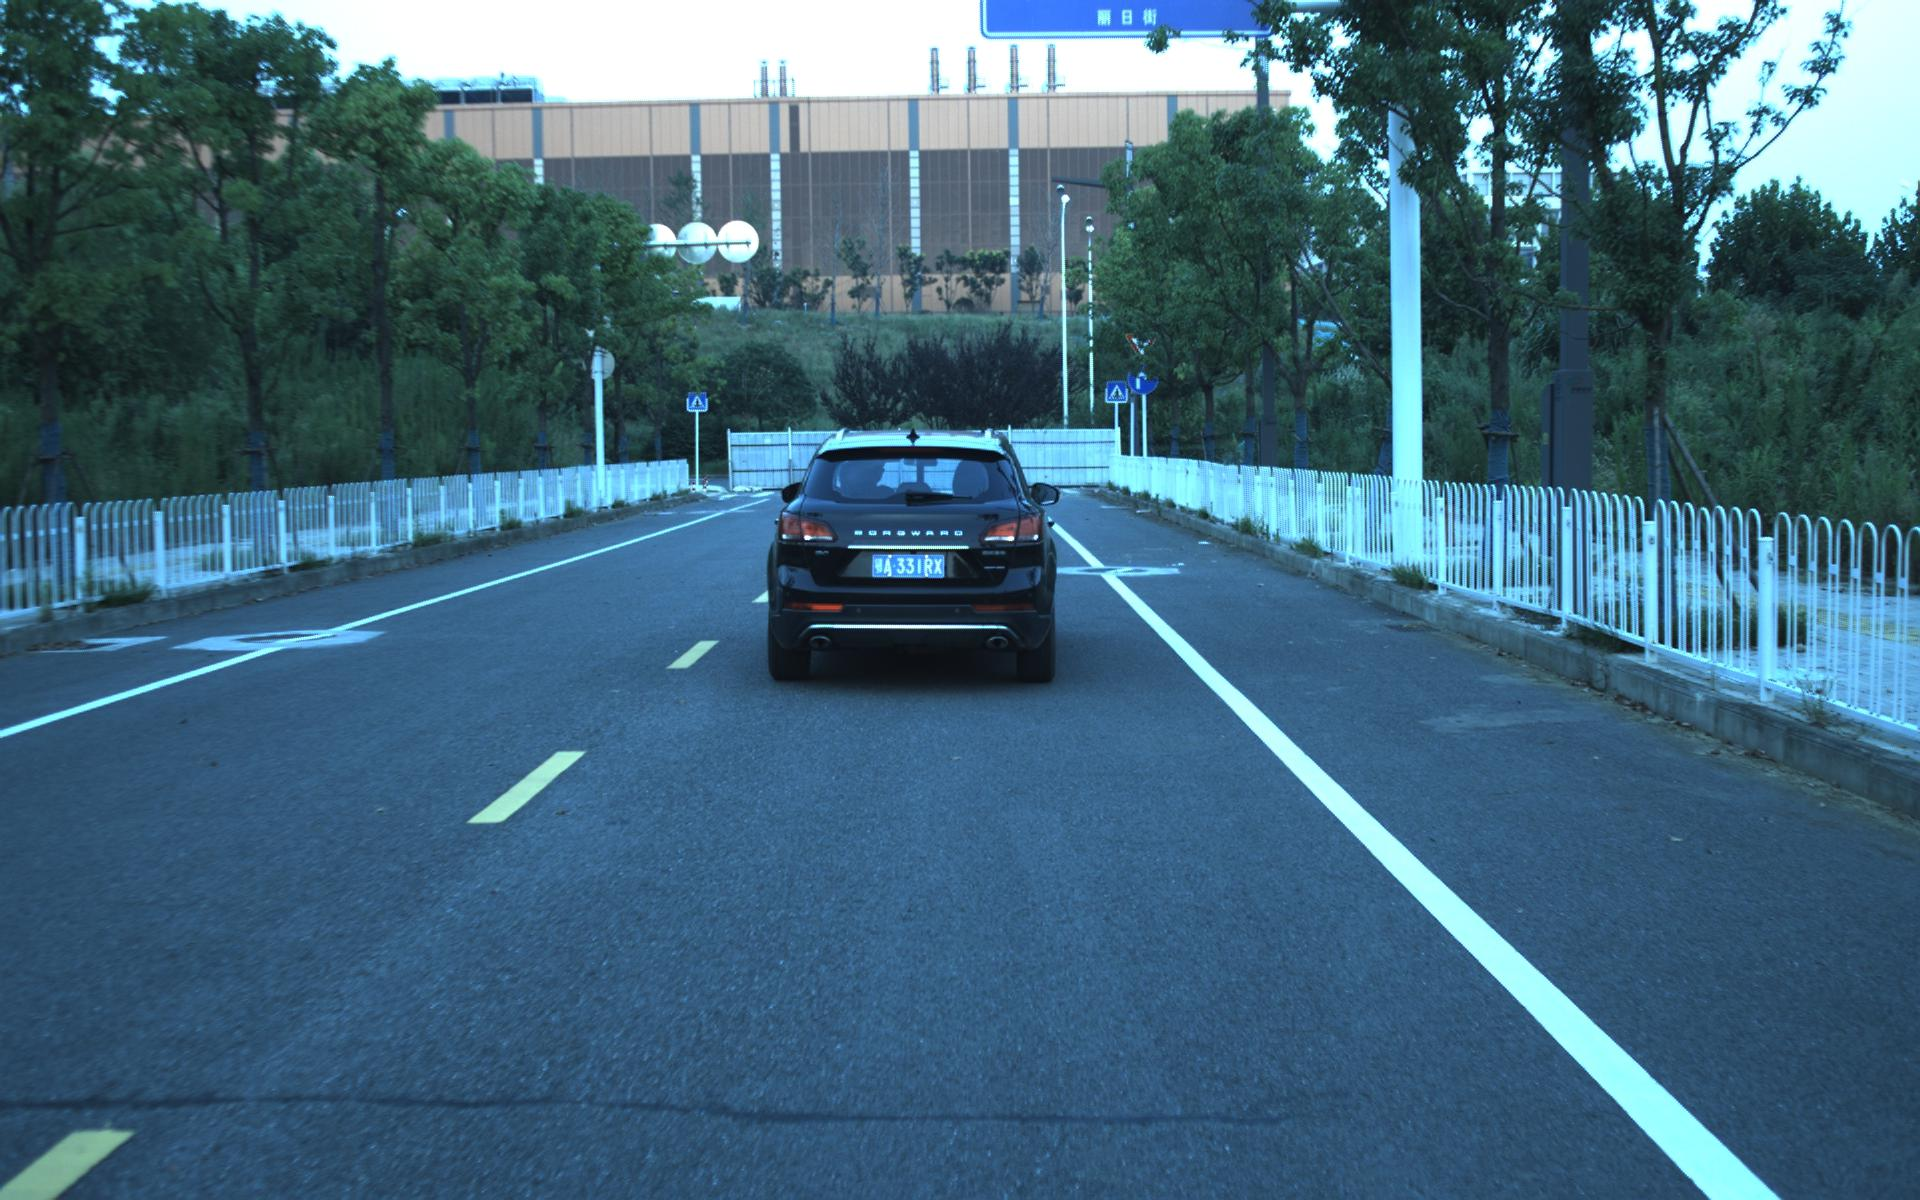Car: (763, 422, 1057, 683)
